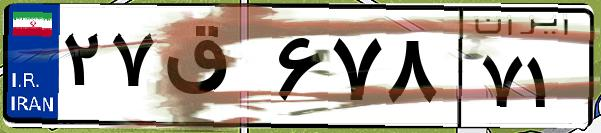1: (525, 38, 570, 115)
2: (57, 26, 110, 100)
6: (270, 28, 330, 110)
7: (330, 28, 385, 110), (475, 38, 525, 113), (110, 28, 158, 98)
8: (385, 28, 445, 110)
ق: (158, 20, 270, 120)
